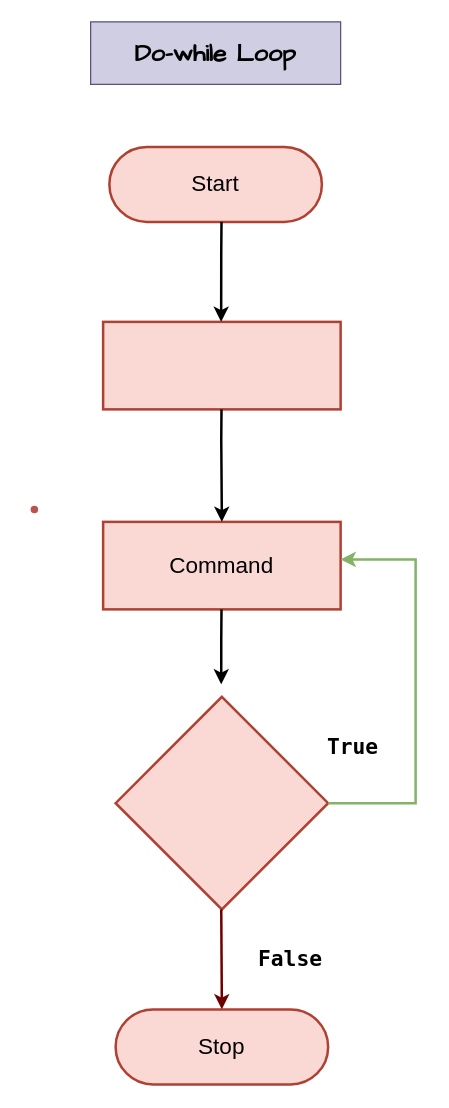
Some shapes in this 449 by 1108 pixel diagram are drawn without their labels. The centre of each missing label's shape, as x and y in pixels:
DO: pixel 221 365
While Condition: pixel 221 802
